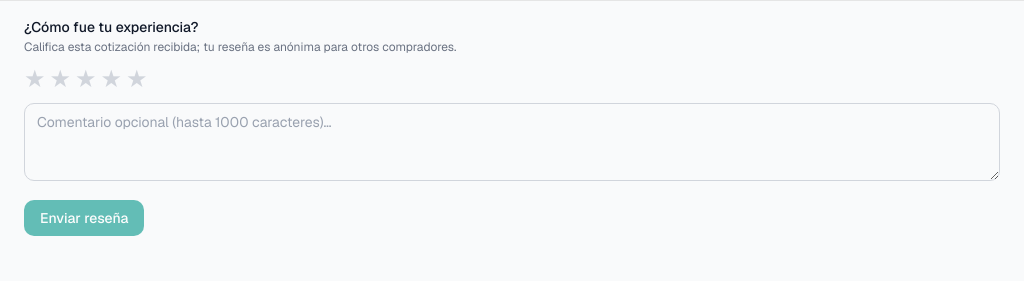
Test: FormularioFeedback › traduce FEEDBACK_DUPLICADO al español
Click the radio button named "4 estrellas" at (111, 79), box [100, 67, 122, 91]
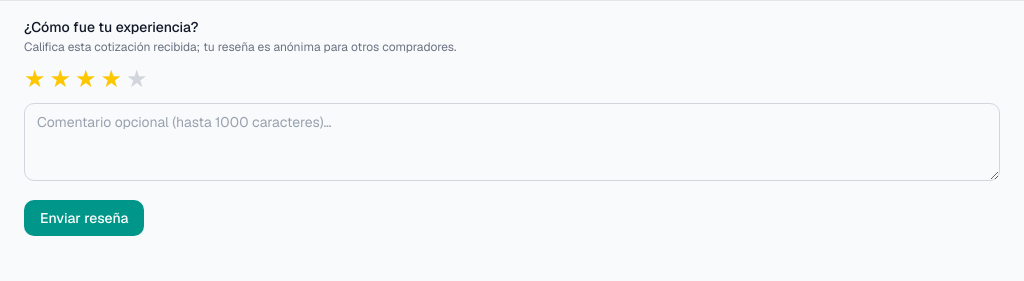
Click the button "Enviar reseña" at (84, 218), box [24, 200, 144, 236]
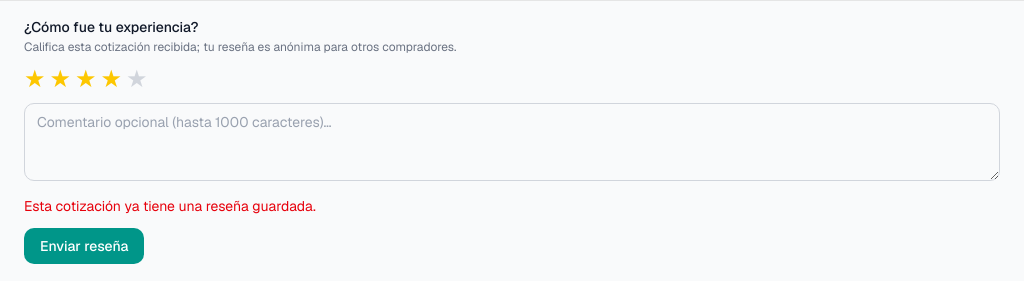
Result: the button "Enviar reseña" is enabled at [24, 228, 144, 264]
Result: the message reads "Esta cotización ya tiene una reseña guardada." at [24, 197, 316, 215]
